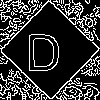D: (25, 25, 62, 71)
